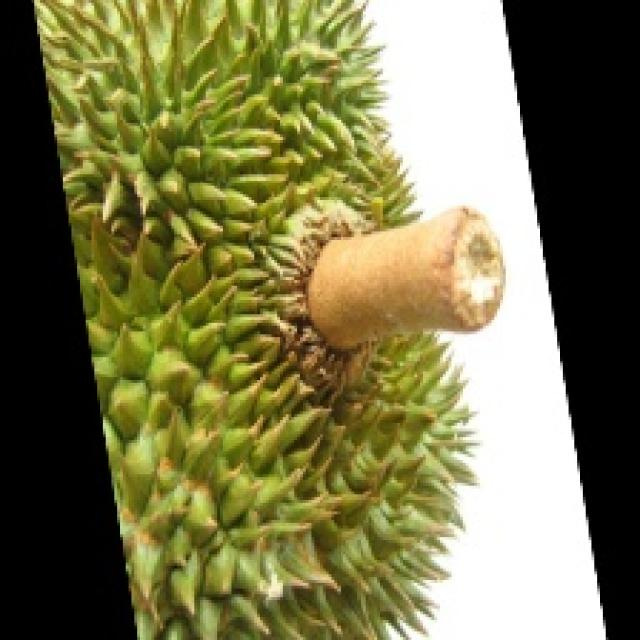d101: (42, 0, 469, 603)
